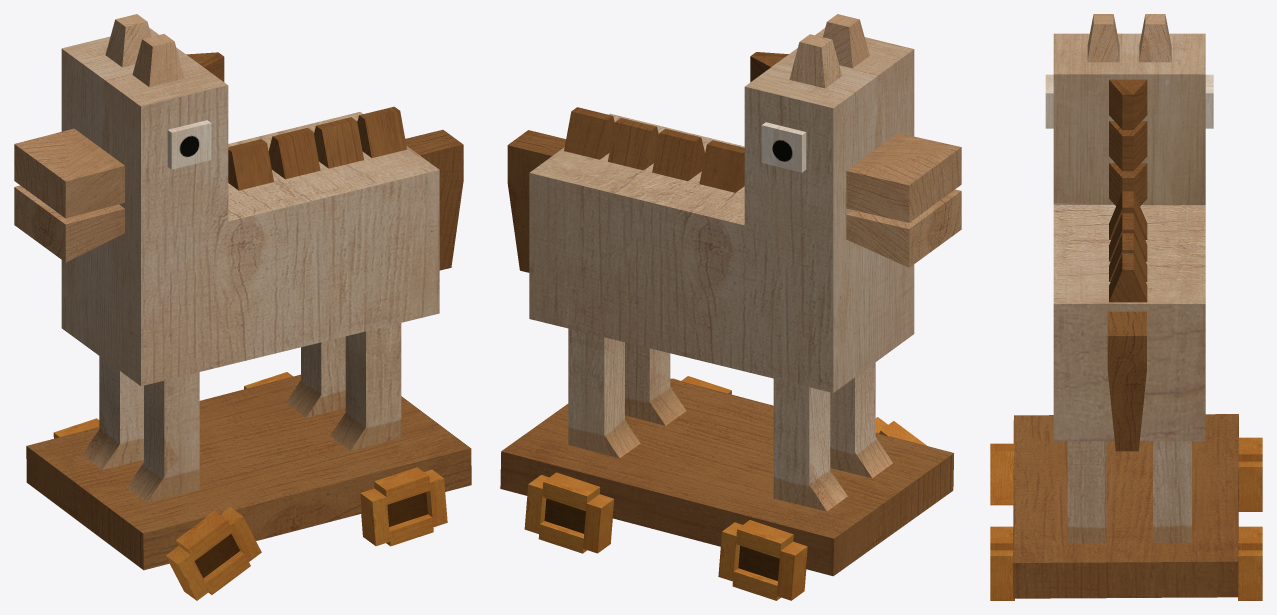
Rendered from New Horse.fbx.
3 renders of one model, left to right at view 1: azimuth 30°, elevation 25°; view 2: azimuth 150°, elevation 25°; view 3: azimuth 270°, elevation 25°, orthographic. The views are drawn at different scales.
Parts seen in each view (by area): view 1: polySurface1, pCube22, polySurface17, polySurface16, pCube35, pCube36, polySurface18, polySurface15; view 2: polySurface1, pCube22, polySurface18, polySurface15, pCube37, pCube38, polySurface17, polySurface16; view 3: polySurface1, pCube22, polySurface16, polySurface15, pCube37, pCube38, pCube36, pCube35.
Part boxes in pixels (x1,y1,x2,y2): polySurface1: (14,14,463,386); pCube22: (26,374,471,570); polySurface17: (127,372,199,502); polySurface16: (330,323,401,451); pCube35: (166,507,261,600); pCube36: (360,467,447,546); polySurface18: (82,356,143,469); polySurface15: (286,336,345,417); polySurface1: (507,14,961,392); pCube22: (500,378,953,576); polySurface18: (773,378,847,511); polySurface15: (568,328,640,458); pCube37: (524,472,613,553); pCube38: (718,520,807,600); polySurface17: (830,362,892,478); polySurface16: (625,342,686,425); polySurface1: (1045,14,1213,451); pCube22: (1013,414,1238,598); polySurface16: (1067,441,1106,543); polySurface15: (1153,441,1191,543); pCube37: (1238,526,1262,600); pCube38: (1238,437,1262,511); pCube36: (990,526,1014,600); pCube35: (990,443,1014,505).
Bounding box in the file's own units: 11.66 × 13.86 × 6.98.
Materials: 2 (2 with a texture image).
